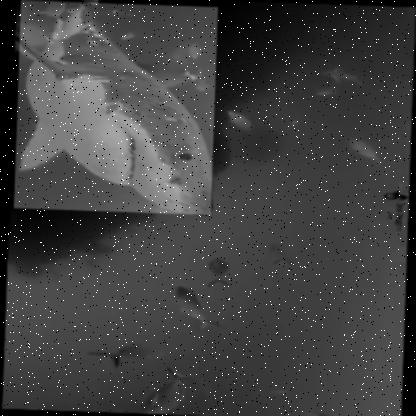white-shark: (12, 0, 217, 216)
